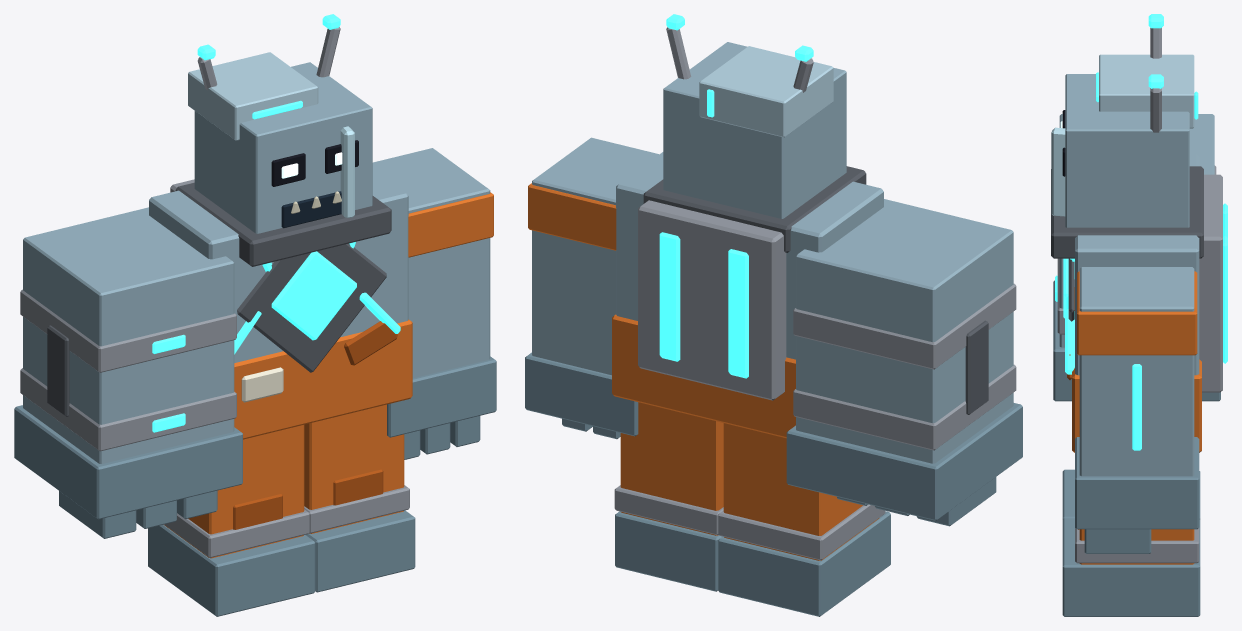
Rendered from myw_zombieexperiment.glb.
3 views of the same model, side by side, from view 1: azimuth 30°, elevation 25°; view 2: azimuth 150°, elevation 25°; view 3: azimuth 270°, elevation 25° (orthographic). The views are drawn at different scales.
Parts seen in each view (by area): view 1: RightArm, Torso, Head, LeftArm, RightLeg, LeftLeg, Hat; view 2: RightArm, Torso, Head, LeftArm, RightLeg, LeftLeg, Hat; view 3: LeftArm, Head, Torso, LeftLeg, Hat, RightArm, RightLeg.
Part boxes in pixels (left/top/right/bottom): RightArm: left=14, top=207, right=242, bottom=538; Torso: left=149, top=169, right=412, bottom=439; Head: left=188, top=52, right=372, bottom=233; LeftArm: left=372, top=148, right=496, bottom=459; RightLeg: left=148, top=425, right=315, bottom=616; LeftLeg: left=304, top=404, right=415, bottom=592; Hat: left=175, top=14, right=391, bottom=266; RightArm: left=786, top=199, right=1022, bottom=526; Torso: left=612, top=152, right=883, bottom=438; Head: left=663, top=42, right=846, bottom=218; LeftArm: left=525, top=137, right=658, bottom=439; RightLeg: left=718, top=423, right=890, bottom=616; LeftLeg: left=614, top=402, right=723, bottom=591; Hat: left=643, top=14, right=866, bottom=252; LeftArm: left=1075, top=267, right=1199, bottom=553; Head: left=1060, top=54, right=1198, bottom=227; Torso: left=1063, top=154, right=1227, bottom=452; LeftLeg: left=1062, top=518, right=1200, bottom=616; Hat: left=1051, top=14, right=1203, bottom=258; RightArm: left=1053, top=114, right=1220, bottom=401; RightLeg: left=1062, top=469, right=1200, bottom=519.
Bounding box in the file's own units: 4.93 × 6.04 × 1.85.
